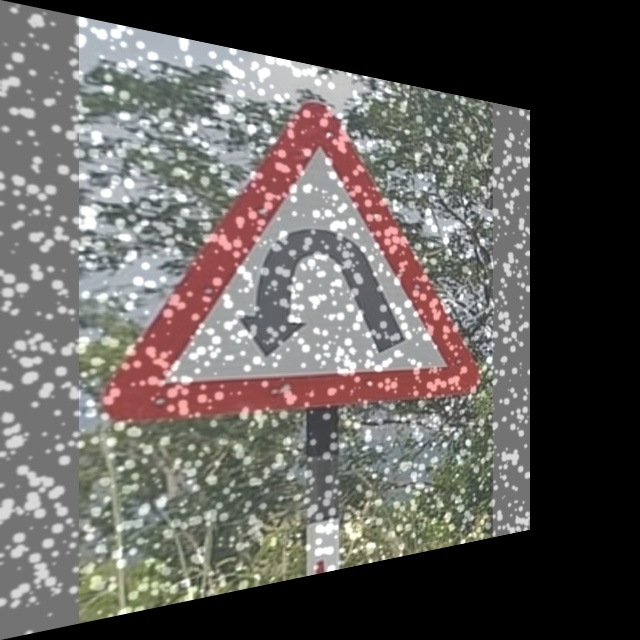Left_Hair_Pin_Bend: (111, 75, 476, 422)
